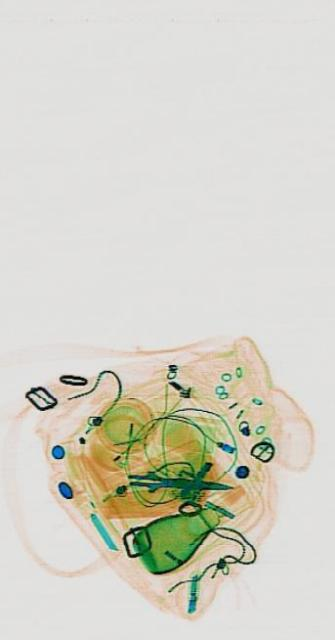Knife: (125, 469, 230, 495)
